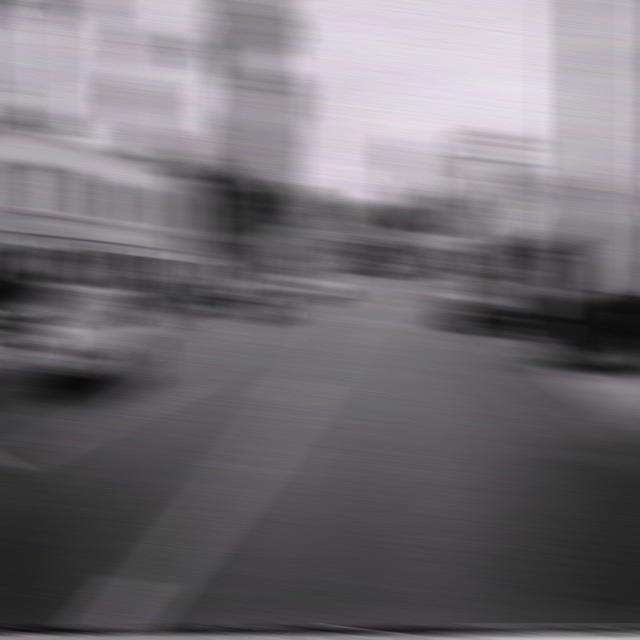pedestrianCrossing: (572, 171, 624, 230)
